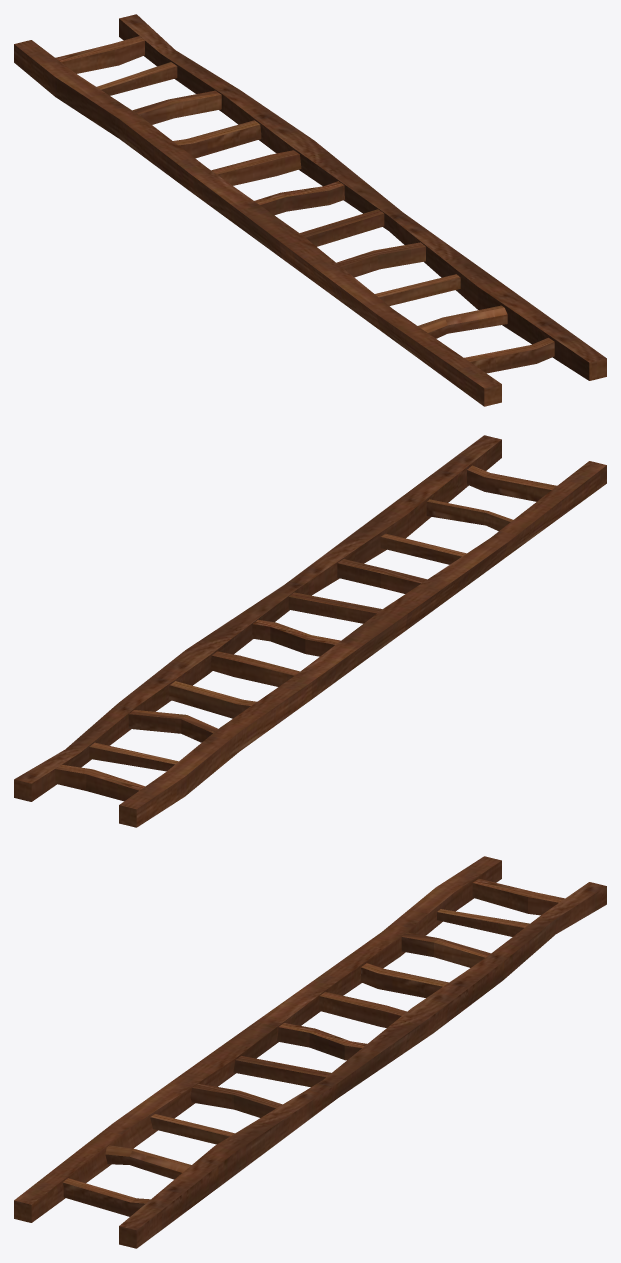
The model's file is stair_2.fbx.
3 views of the same model, one above another, from view 1: azimuth 30°, elevation 25°; view 2: azimuth 150°, elevation 25°; view 3: azimuth 330°, elevation 25° (orthographic).
Parts seen in each view (by area): view 1: Cube.011; view 2: Cube.011; view 3: Cube.011.
Boxes of the visible parts, x1=… form: Cube.011: x1=14, y1=14, x2=606, y2=406; Cube.011: x1=14, y1=435, x2=606, y2=827; Cube.011: x1=14, y1=856, x2=606, y2=1248.
Size of the model in its own units: 154 by 27.87 by 963.
